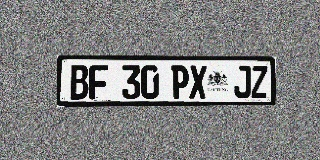0: (141, 65, 159, 99)
3: (122, 65, 140, 99)
B: (70, 65, 89, 99)
F: (89, 65, 108, 99)
J: (234, 66, 251, 98)
P: (171, 65, 189, 99)
X: (189, 65, 206, 99)
Z: (251, 66, 268, 98)
